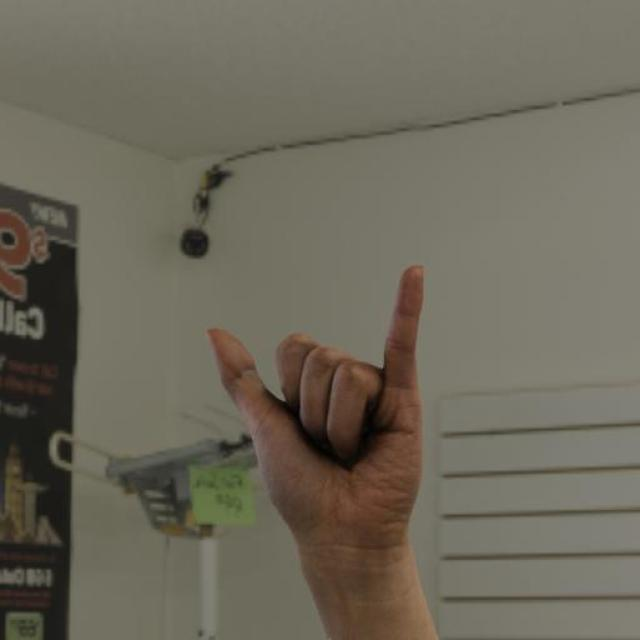Y: (201, 263, 430, 555)
